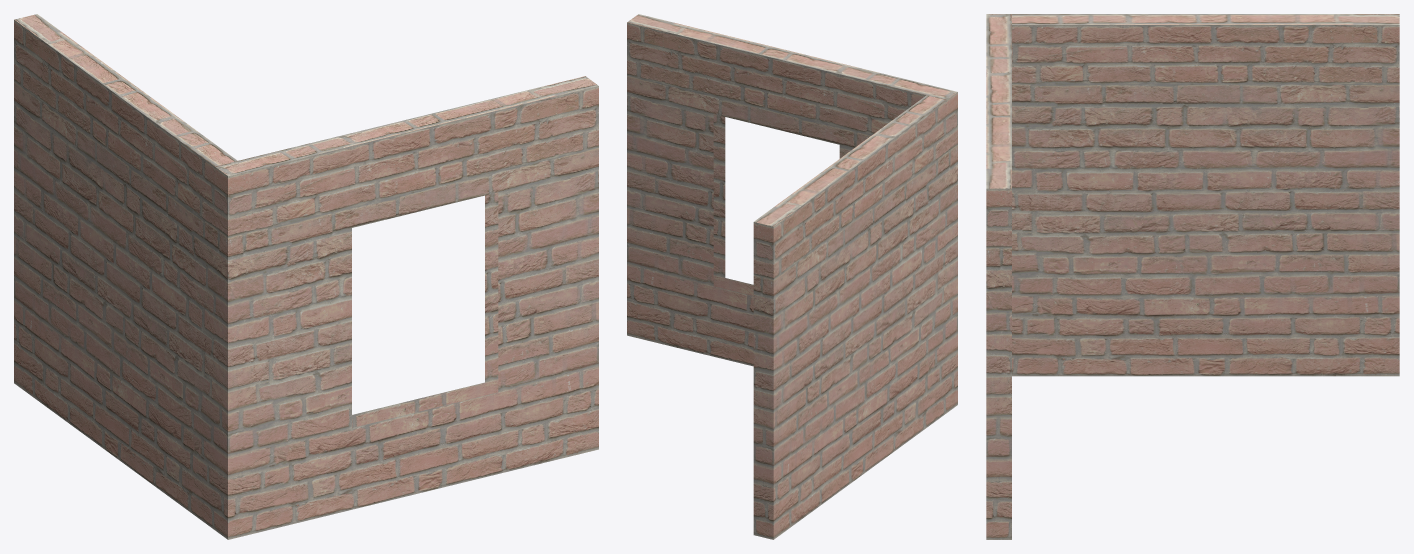
Rendered from WallDSingleWindowL.fbx.
3 views of the same model, side by side, from view 1: azimuth 30°, elevation 25°; view 2: azimuth 150°, elevation 25°; view 3: azimuth 270°, elevation 25° (orthographic). The views are drawn at different scales.
Visible parts, largest first — view 1: WallDSingleWindowL; view 2: WallDSingleWindowL; view 3: WallDSingleWindowL.
Boxes of the visible parts, x1,y1,x2,y2 form: WallDSingleWindowL: (14, 14, 598, 539); WallDSingleWindowL: (627, 14, 957, 539); WallDSingleWindowL: (986, 14, 1399, 539).
Size of the model in its own units: 320 by 300 by 320.
1 material, 1 textured.
